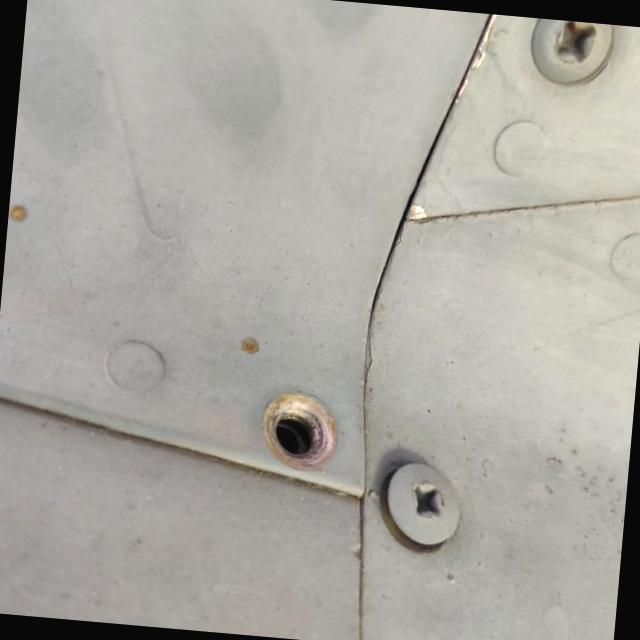Missing Fastener: (260, 386, 347, 476)
